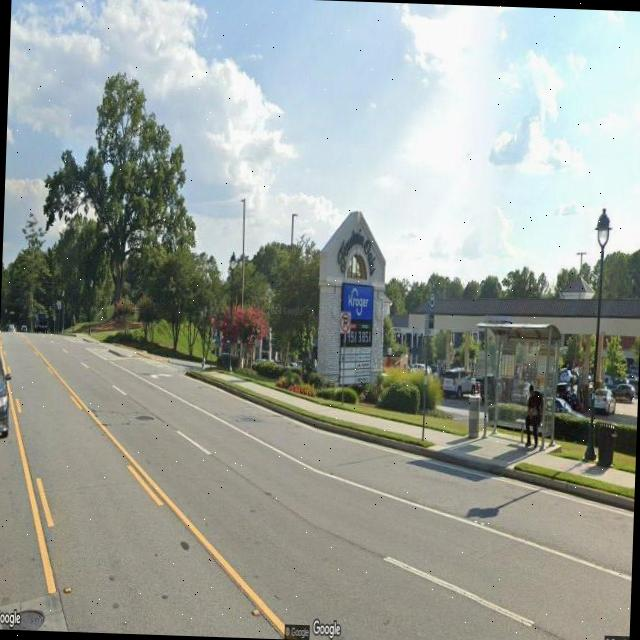seating: (514, 418, 546, 446)
shelter: (470, 318, 564, 452)
trash_can: (596, 422, 616, 466), (466, 394, 481, 439)
